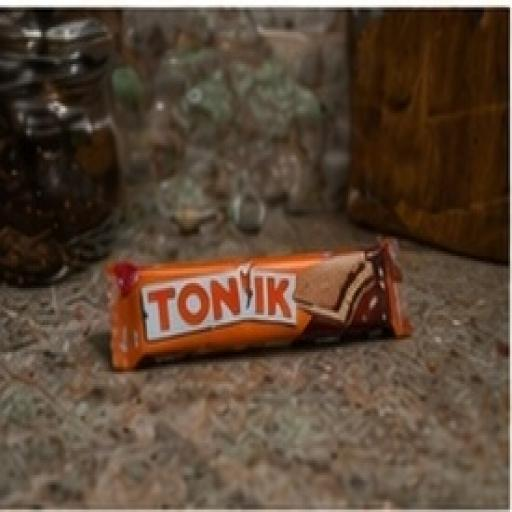tonik: (58, 199, 464, 420), (430, 204, 433, 239)
